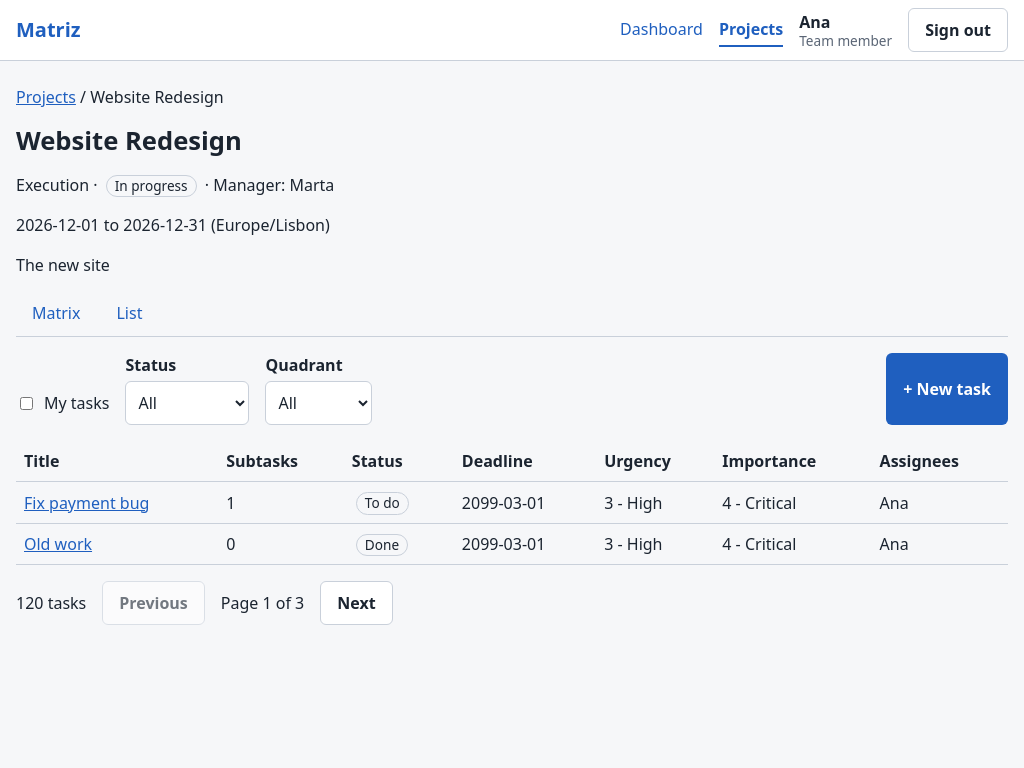
Test: the project and its tasks (F02, F04, F05, F22) › shows the List with all the tasks, with the total of the server, and goes to the next page
Expected: the text "3 - High" in the row of "Fix payment bug" is shown, [604,492,662,514]
Expected: the text "4 - Critical" in the row of "Fix payment bug" is shown, [722,492,796,514]
Click the button "Next": point(356, 603) [320,581,393,625]
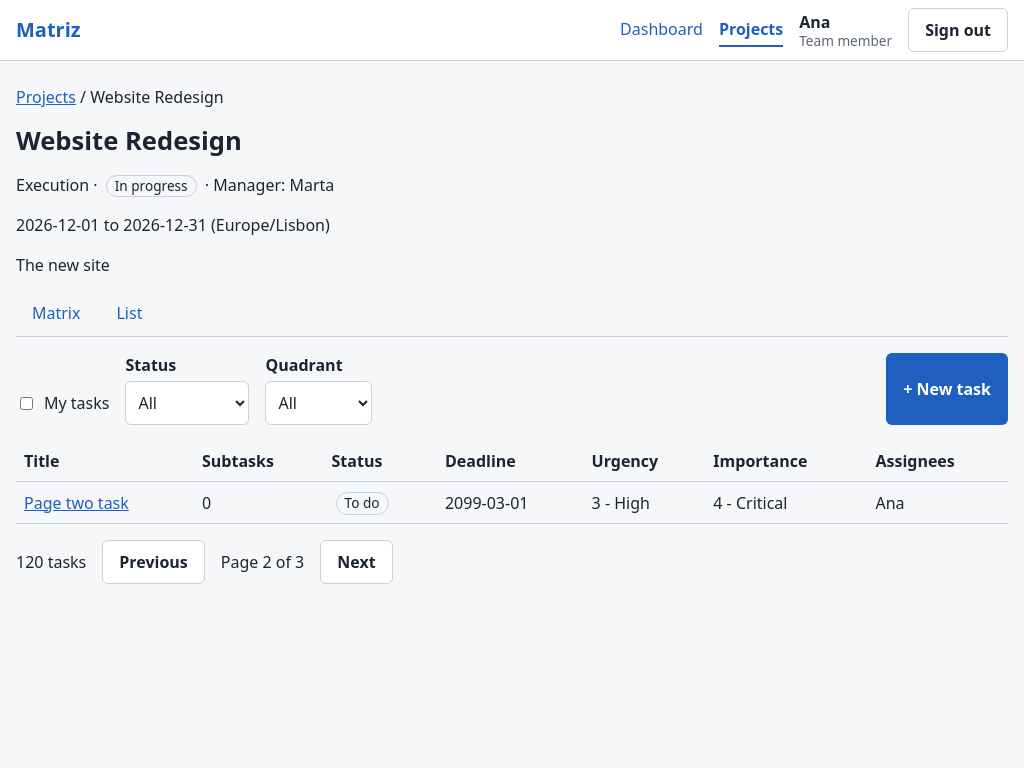
Expected: the link "Page two task" is shown, [24,492,129,514]
Expected: the text "Page 2 of 3" is shown, [221,550,304,574]
